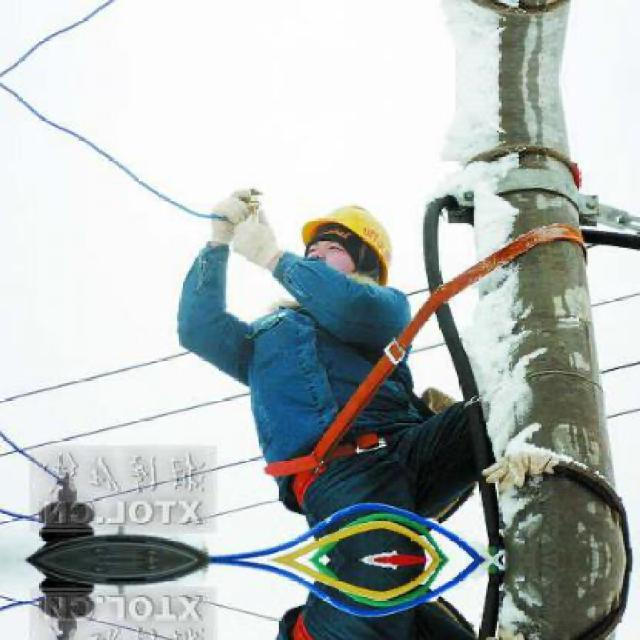con casco: (267, 200, 432, 326)
